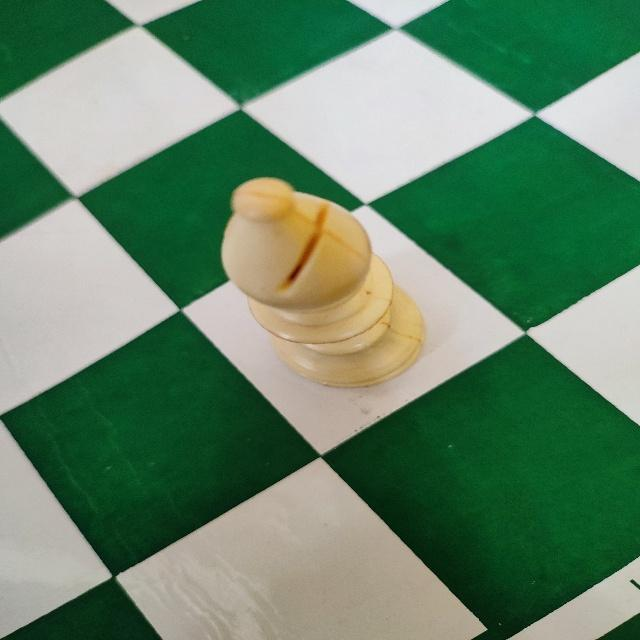Bishop: (216, 173, 432, 389)
